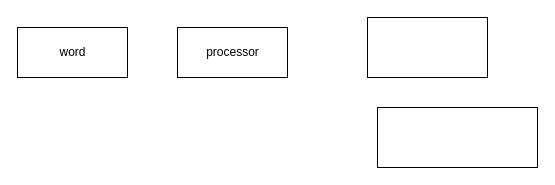
Image size: 555x185. Some labels were removed from this diagram. The shapes that lost their labels are listed below. From the top down, each one's box as (x1, y1, x2, y2) in pixels, then its label:
(366, 16, 488, 78): blockOfWords
(376, 106, 538, 168): blockOfTranslatedWords
